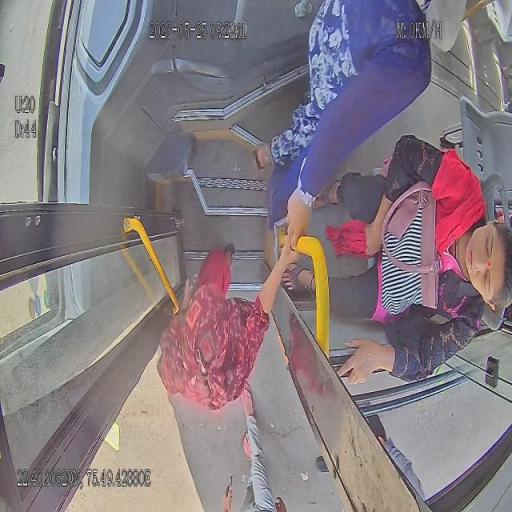persona: (278, 134, 512, 387), (253, 0, 466, 238), (156, 232, 308, 412), (221, 384, 287, 511)
